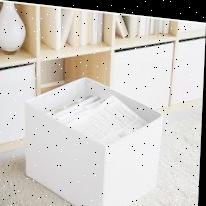cube: (23, 71, 166, 206)
